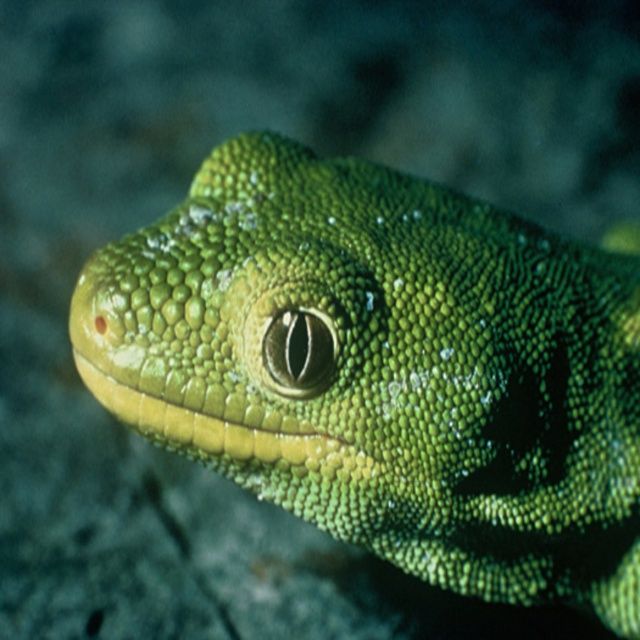Lizard: (68, 128, 640, 640)
